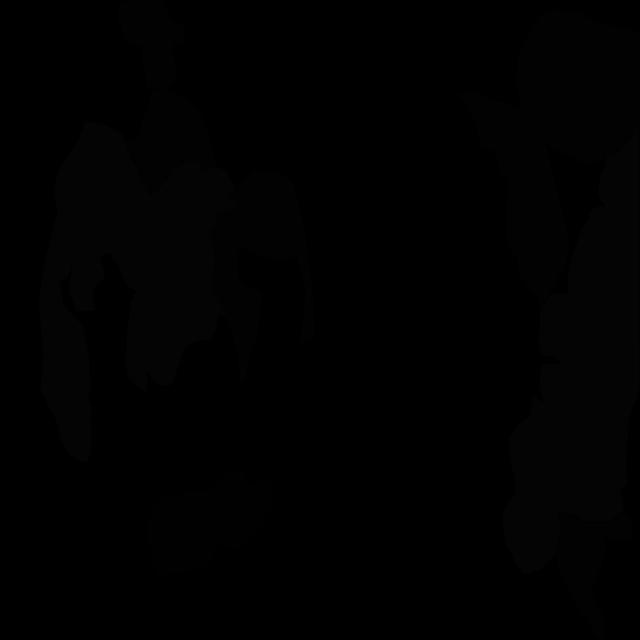cardboard: (457, 91, 569, 311), (207, 169, 315, 384), (516, 9, 640, 166), (555, 512, 636, 640), (124, 89, 216, 197), (118, 0, 184, 90)
rigid_plastic: (146, 471, 274, 576)
soft_plastic: (39, 122, 240, 463), (503, 121, 640, 574)
